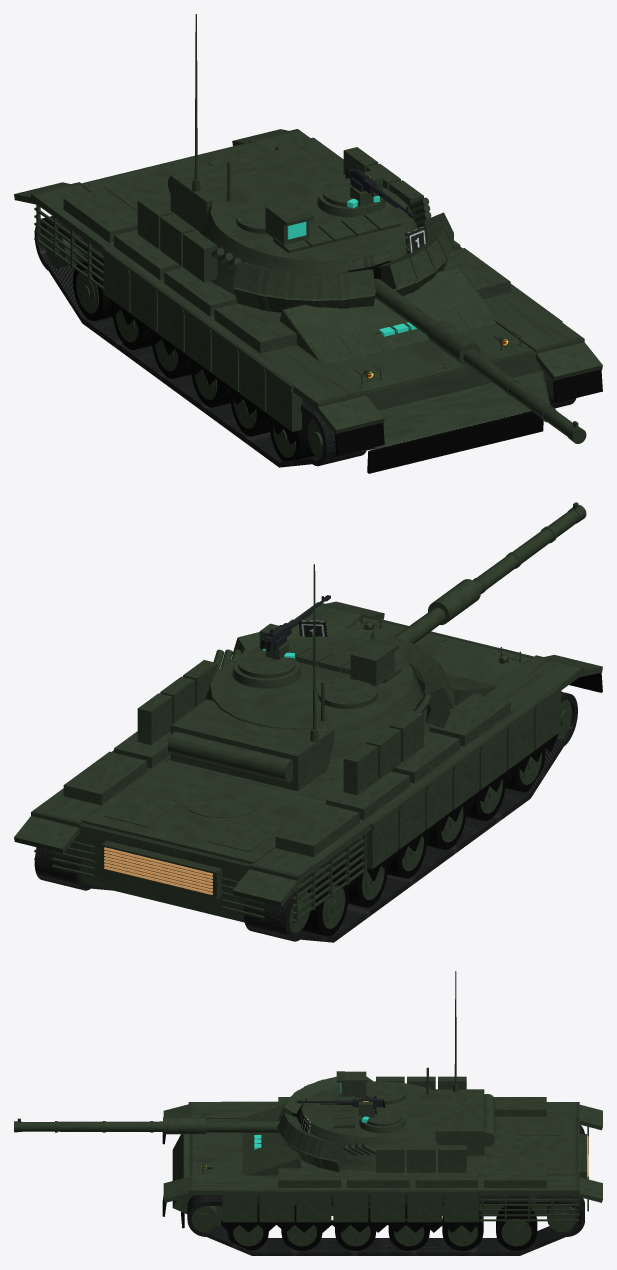
File: tank_390.glb
3 views of the same model, one above another, from view 1: azimuth 30°, elevation 25°; view 2: azimuth 150°, elevation 25°; view 3: azimuth 270°, elevation 25° (orthographic). The views are drawn at different scales.
Visible parts, largest first — view 1: Hull_And_RunningGear, Turret_Cast_Shell, Left_SideSkirt_Relikt, Gun_2A46M4_125mm_Barrel, Turret_Left_Relikt_ERA, Glacis_Relikt_ERA, Turret_Right_Relikt_ERA, Turret_Roof_Relikt_ERA, Kord_12_7mm_HMG_Cupola, Sosna_U_Thermal_Sight, Part_Mesh_275, Part_Mesh_258 (+6 smaller); view 2: Hull_And_RunningGear, Turret_Cast_Shell, Left_SideSkirt_Relikt, Gun_2A46M4_125mm_Barrel, Turret_Right_Relikt_ERA, GTD1250_Gas_Turbine_Pack, Turret_Left_Relikt_ERA, Kord_12_7mm_HMG_Cupola, Sosna_U_Thermal_Sight, Rear_Slat_Cage_Armor, Turret_Roof_Relikt_ERA, Part_Mesh_086 (+2 smaller); view 3: Hull_And_RunningGear, Turret_Cast_Shell, Right_SideSkirt_Relikt, Gun_2A46M4_125mm_Barrel, Turret_Right_Relikt_ERA, Glacis_Relikt_ERA, Kord_12_7mm_HMG_Cupola, Turret_Left_Relikt_ERA, Part_Mesh_121, Sosna_U_Thermal_Sight, Turret_Roof_Relikt_ERA, Part_Mesh_122 (+6 smaller).
Boxes of the visible parts, x1,y1,x2,y2 form: Hull_And_RunningGear: (14,129,602,473); Turret_Cast_Shell: (167,14,417,294); Left_SideSkirt_Relikt: (102,247,301,444); Gun_2A46M4_125mm_Barrel: (374,278,586,443); Turret_Left_Relikt_ERA: (137,197,248,282); Glacis_Relikt_ERA: (310,301,496,364); Turret_Right_Relikt_ERA: (343,147,431,254); Turret_Roof_Relikt_ERA: (273,209,400,252); Kord_12_7mm_HMG_Cupola: (317,177,385,217); Sosna_U_Thermal_Sight: (265,200,313,245); Part_Mesh_275: (377,255,423,288); Part_Mesh_258: (338,269,375,298); Hull_And_RunningGear: (14,601,602,942); Turret_Cast_Shell: (167,564,430,791); Left_SideSkirt_Relikt: (366,685,562,881); Gun_2A46M4_125mm_Barrel: (395,502,586,643); Turret_Right_Relikt_ERA: (137,619,327,744); GTD1250_Gas_Turbine_Pack: (101,840,222,899); Turret_Left_Relikt_ERA: (343,693,432,795); Kord_12_7mm_HMG_Cupola: (232,635,300,688); Sosna_U_Thermal_Sight: (350,638,398,686); Rear_Slat_Cage_Armor: (52,841,264,918); Turret_Roof_Relikt_ERA: (288,642,400,683); Part_Mesh_086: (301,876,348,936); Hull_And_RunningGear: (162,1097,602,1255); Turret_Cast_Shell: (299,971,494,1171); Right_SideSkirt_Relikt: (221,1191,480,1232); Gun_2A46M4_125mm_Barrel: (14,1117,279,1134); Turret_Right_Relikt_ERA: (301,1115,466,1172); Glacis_Relikt_ERA: (242,1112,264,1174); Kord_12_7mm_HMG_Cupola: (359,1104,405,1133); Turret_Left_Relikt_ERA: (366,1076,466,1090); Part_Mesh_121: (496,1206,537,1250); Sosna_U_Thermal_Sight: (336,1071,366,1097); Turret_Roof_Relikt_ERA: (333,1088,354,1128); Part_Mesh_122: (501,1218,531,1246).
Bounding box in the file's own units: 3.57 × 4.13 × 9.88.
12 materials, 9 textured.
